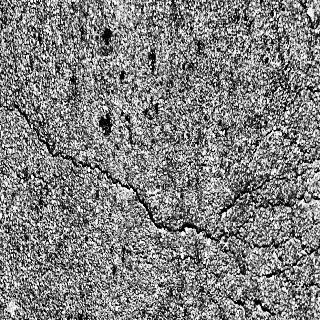crack: (3, 44, 314, 290)
